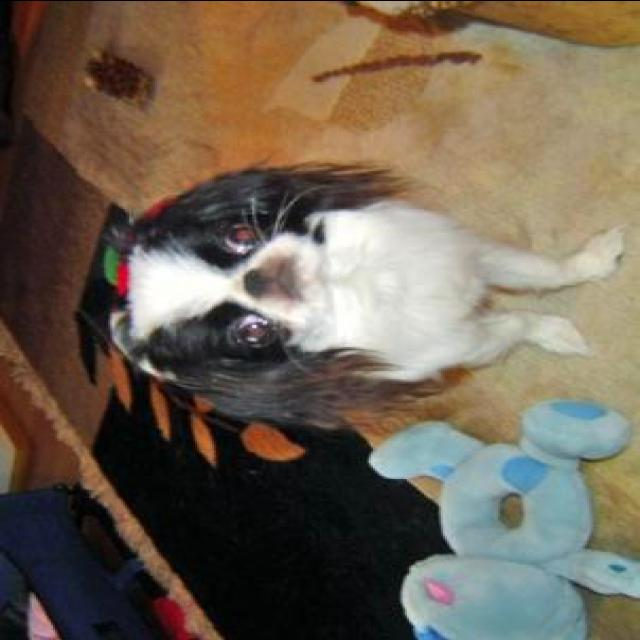husky: (110, 157, 630, 429)
